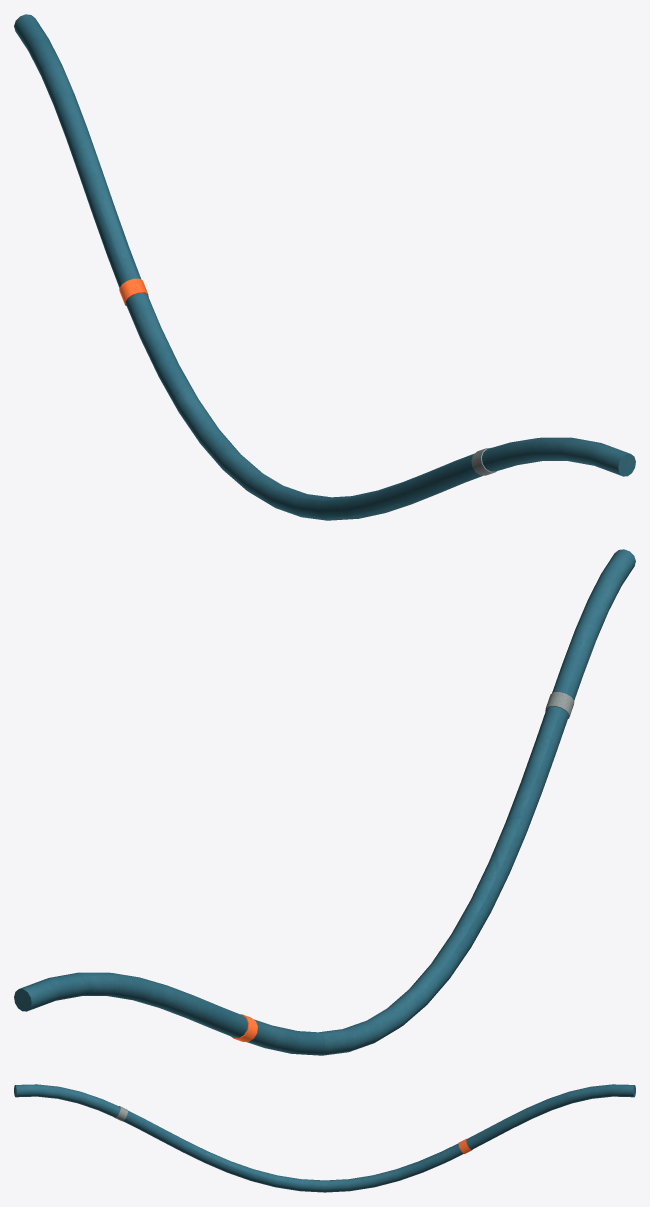
File: loom_service_fiber.fbx
3 views of the same model, one above another, from view 1: azimuth 30°, elevation 25°; view 2: azimuth 150°, elevation 25°; view 3: azimuth 270°, elevation 25° (orthographic). The views are drawn at different scales.
Parts seen in each view (by area): view 1: SM_loom_service_fiber; view 2: SM_loom_service_fiber; view 3: SM_loom_service_fiber.
Part boxes in pixels (bbox=[...]): SM_loom_service_fiber: bbox=[14, 14, 635, 520]; SM_loom_service_fiber: bbox=[14, 549, 635, 1055]; SM_loom_service_fiber: bbox=[14, 1084, 635, 1192].
Bounding box in the file's own units: 0.0618 × 0.156 × 0.707.
Materials: 3 (2 with a texture image).
